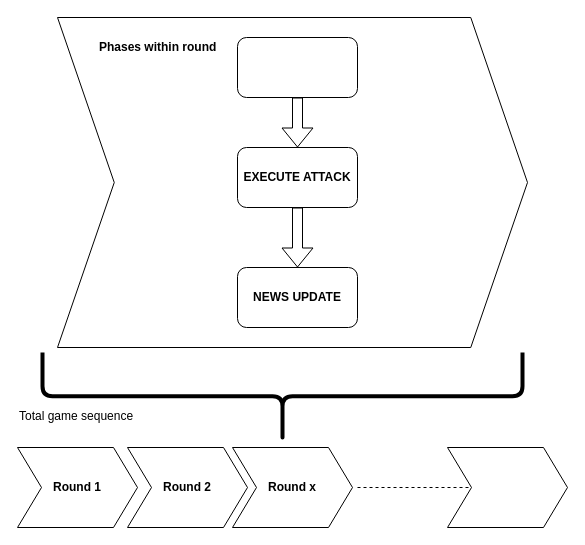
Some shapes in this 585 by 545 pixel diagram are drawn without their labels. Each missing label, with the centre of its shape:
CHECK (TARGET) INFO: the point at 297,67
Final round: the point at 507,487
